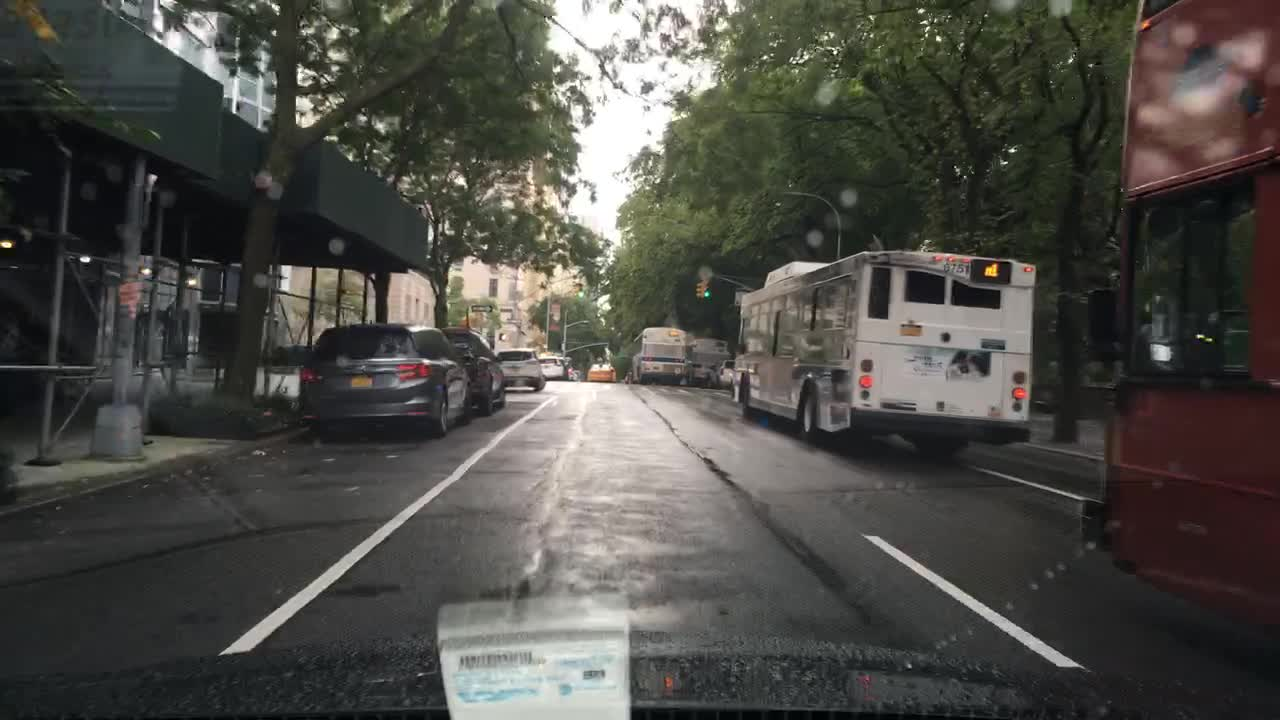bus: (1075, 0, 1278, 626), (728, 247, 1036, 456), (628, 324, 686, 386), (685, 336, 728, 386)
car: (300, 324, 471, 436), (451, 326, 505, 415), (501, 346, 544, 390), (586, 356, 618, 384), (713, 360, 733, 391), (540, 359, 567, 381)
traffic light: (693, 281, 703, 300), (702, 280, 711, 300), (576, 281, 583, 296)
traffic sign: (470, 302, 496, 312)
